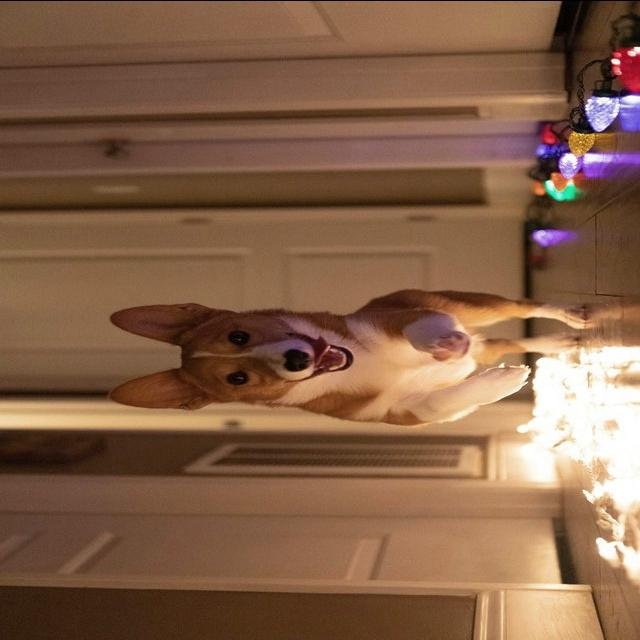corgi: (106, 287, 586, 428)
